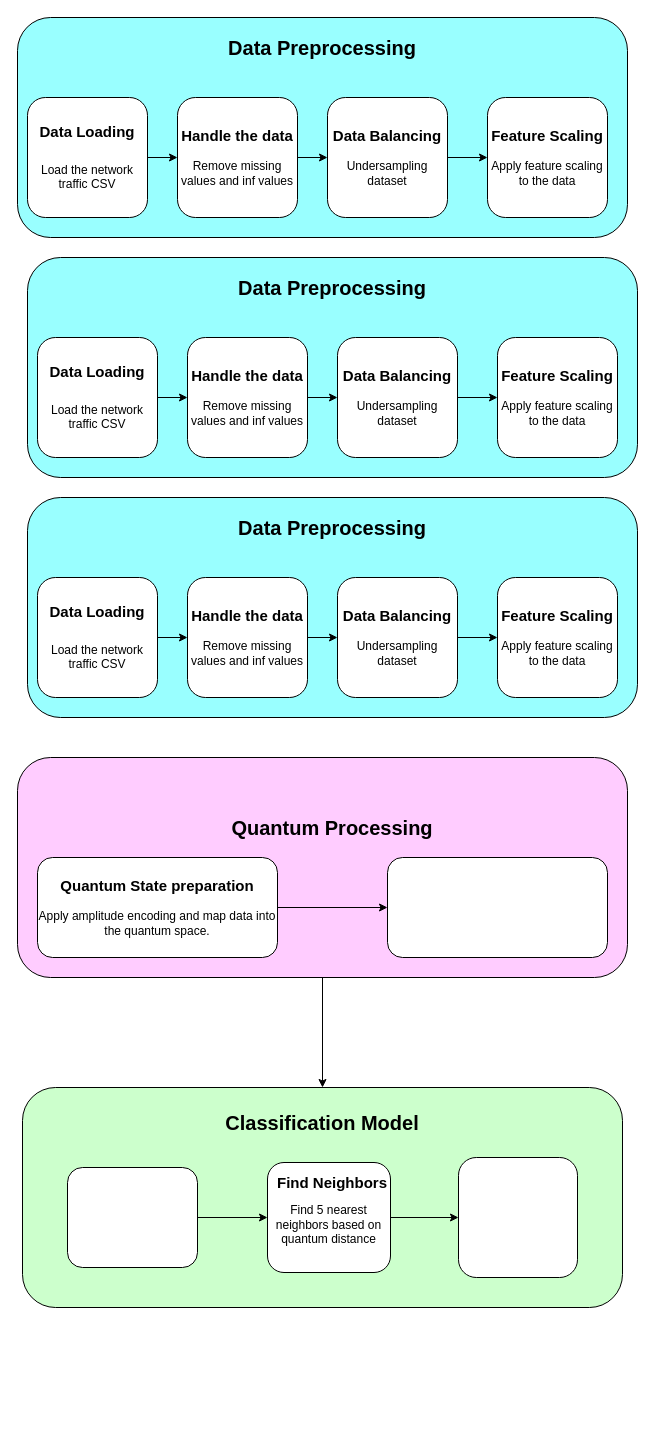
This 655x1431 diagram has some shape labels left out. Each missing label, with the centre of its shape:
"Classification Classify data packet" goes at pixel 518 1217.
"Quantum Distance Compute fidelity = |⟨ψ₁|ψ₂⟩|² distance = 1 - fidelity" goes at pixel 497 907.
"Set value of k Choose k=5" goes at pixel 132 1217.
